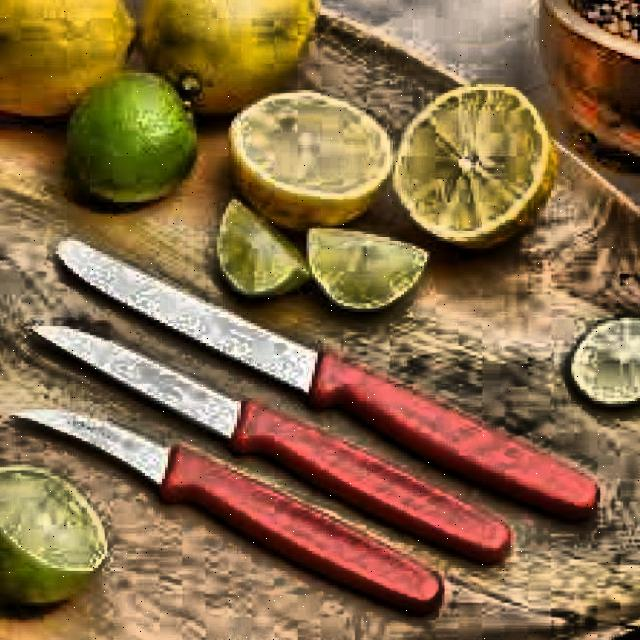knife: (51, 237, 604, 528), (31, 323, 514, 564), (2, 404, 448, 621)
